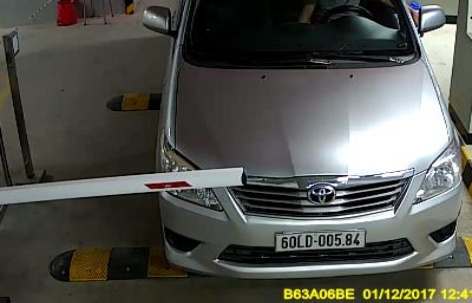plate: (272, 230, 367, 249)
